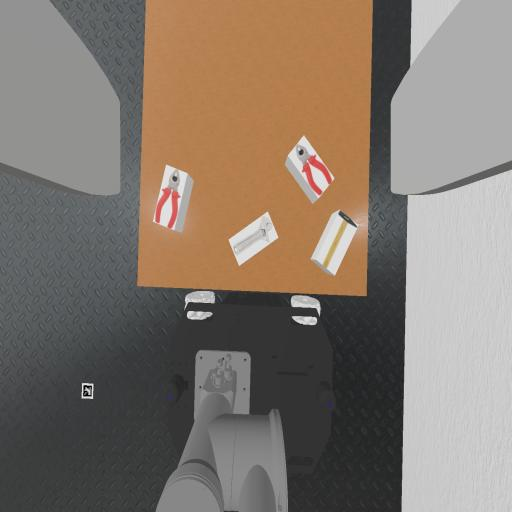hammer: (322, 212, 357, 267)
pliers: (296, 145, 333, 195), (156, 170, 180, 228)
wrench: (234, 217, 272, 254)
